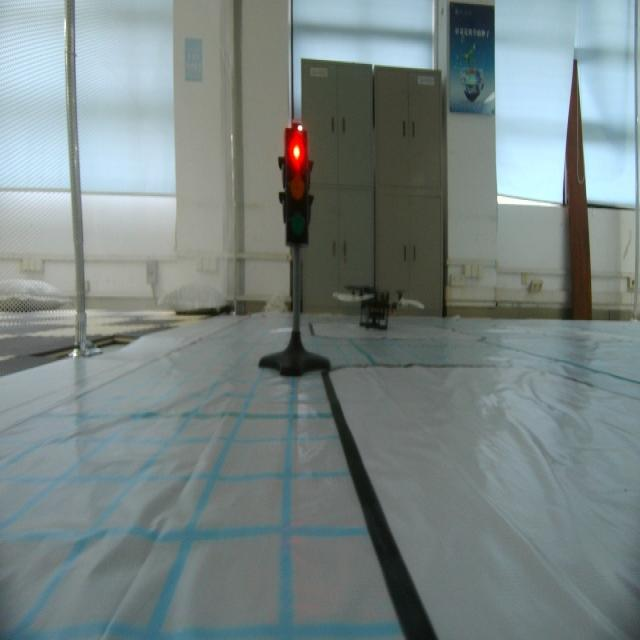red: (276, 115, 316, 252)
